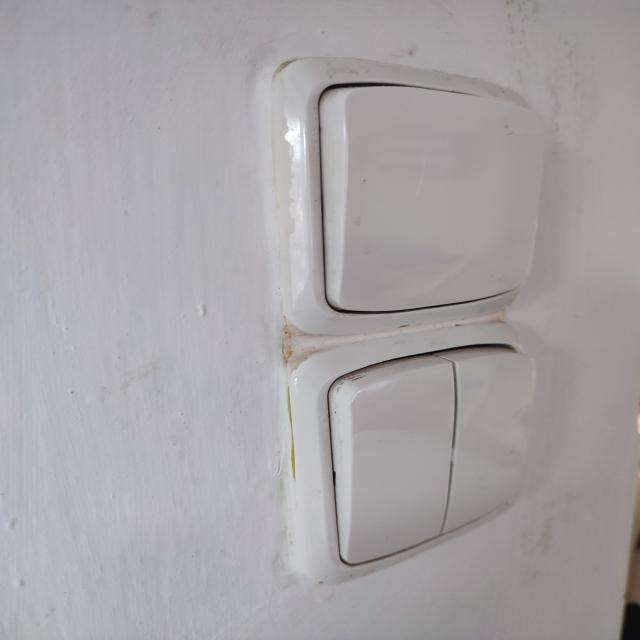house switch: (285, 61, 545, 332)
house switch double: (294, 331, 532, 583)
